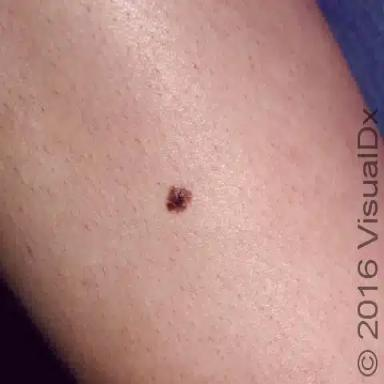Melanoma: (166, 186, 192, 213)
